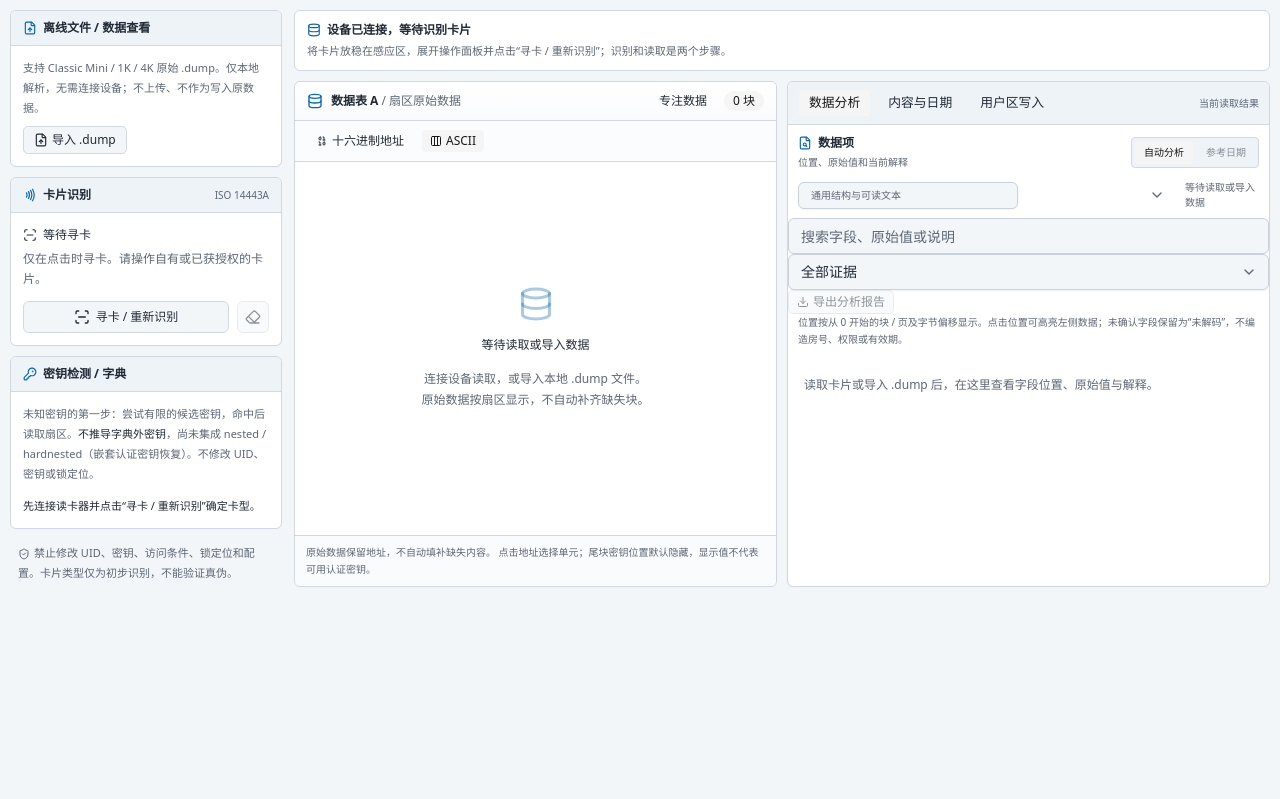
Test: card panel desktop UI › reads Type 2 pages without presenting or sending credentials
Click the button "寻卡 / 重新识别" at (126, 317), box [23, 301, 229, 333]
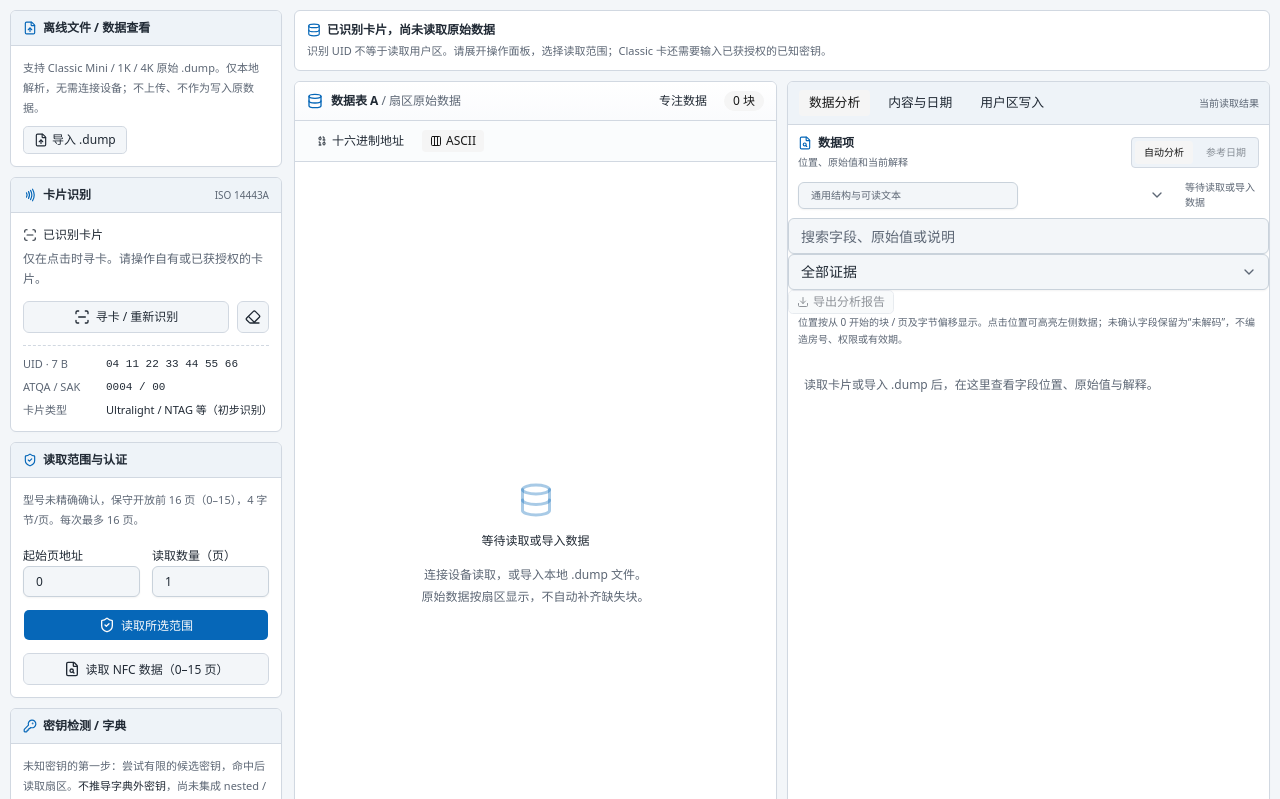
Click the button "读取所选范围" at (146, 625), box [23, 609, 269, 641]
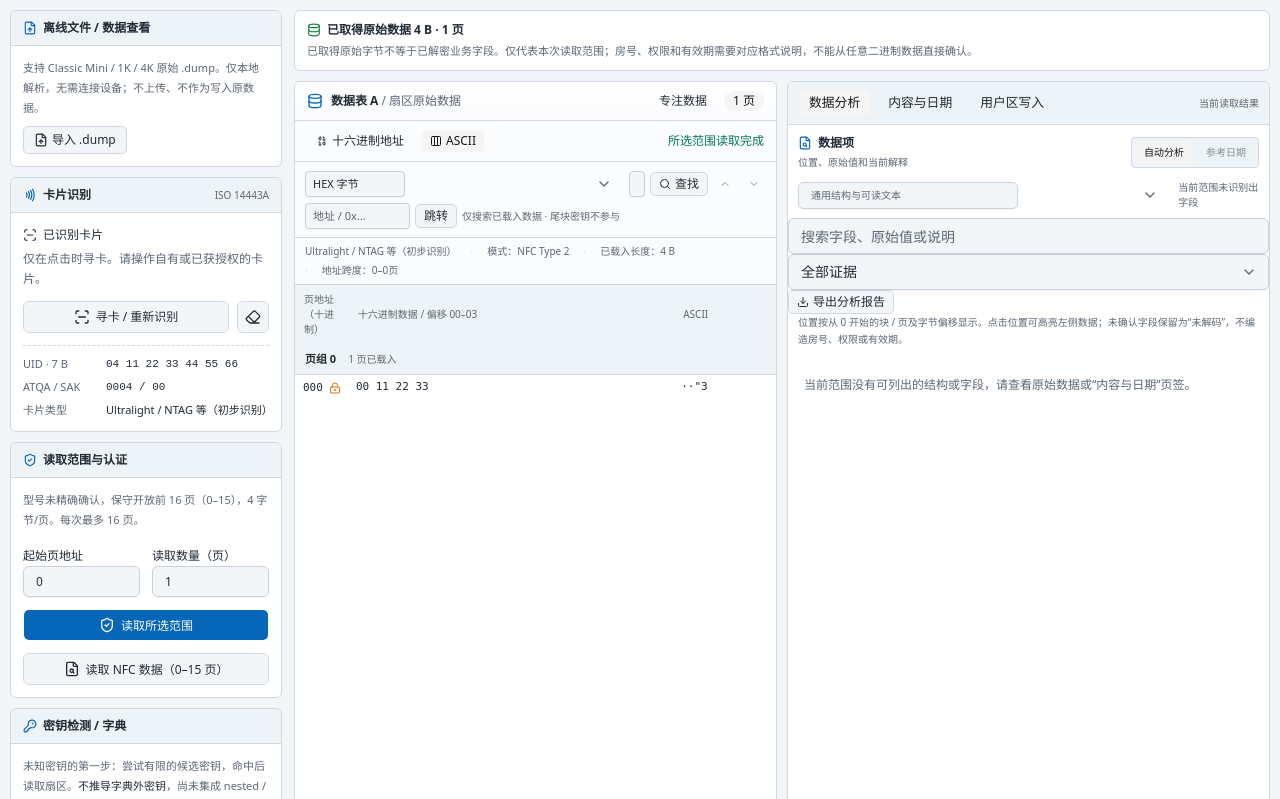
Check: the text "所选范围读取完成" is shown, box [668, 133, 764, 149]
Check: the text "00 11 22 33" is shown, box [356, 380, 429, 393]
